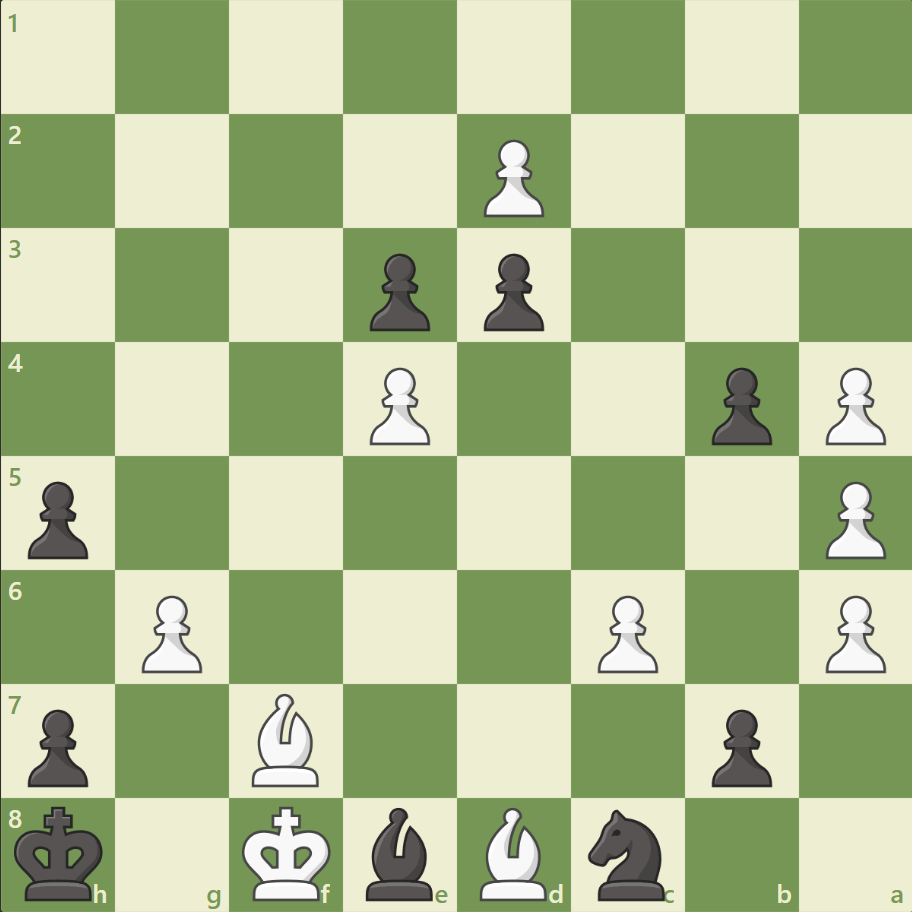B: (471, 801, 555, 904), (244, 687, 328, 790)
K: (238, 798, 338, 906)
P: (133, 586, 208, 677), (474, 132, 549, 223), (815, 586, 889, 677), (588, 586, 662, 677), (815, 473, 889, 564), (815, 359, 889, 450), (361, 359, 435, 450)
b: (358, 801, 442, 904)
k: (11, 798, 111, 906)
n: (579, 802, 676, 904)
p: (701, 700, 776, 791), (20, 700, 95, 791), (20, 473, 95, 564), (701, 359, 776, 450), (474, 246, 549, 337), (361, 246, 435, 337)
